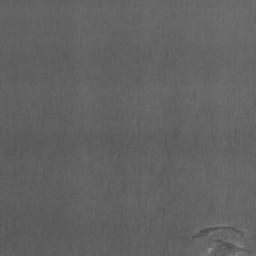Rolled pit: (192, 225, 256, 256)
